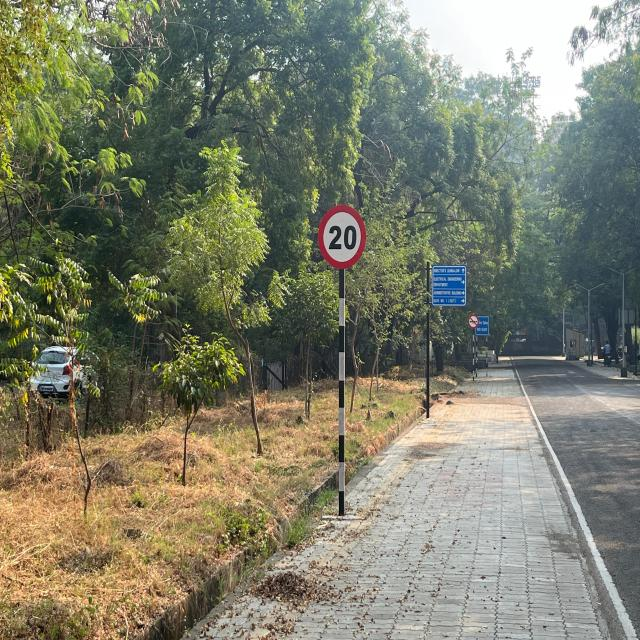forb_speed_over_20: (314, 195, 369, 275)
